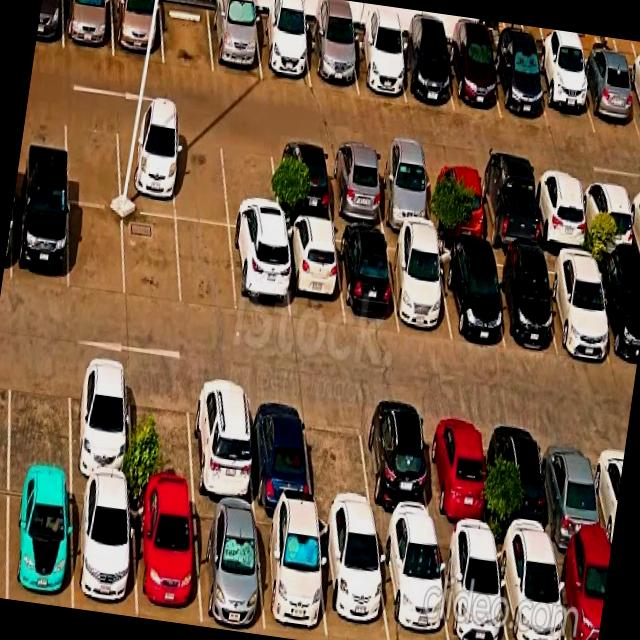car: (192, 500, 265, 633), (360, 404, 435, 531), (255, 509, 327, 640), (131, 491, 201, 623), (422, 410, 490, 539), (6, 475, 71, 608), (318, 517, 388, 640), (73, 482, 137, 615), (540, 425, 607, 552), (247, 386, 313, 512), (190, 377, 254, 506), (376, 528, 448, 640), (70, 358, 131, 488), (491, 418, 553, 545), (436, 533, 507, 640), (543, 254, 612, 361), (495, 540, 566, 640), (437, 245, 505, 348), (386, 236, 452, 341), (487, 251, 556, 351), (335, 229, 399, 330), (283, 222, 344, 326), (117, 119, 175, 218), (12, 190, 68, 290), (230, 229, 290, 320), (553, 546, 611, 640), (476, 167, 540, 252), (272, 141, 333, 224), (576, 61, 640, 140), (595, 259, 640, 371), (425, 161, 486, 243), (325, 147, 385, 228), (533, 56, 595, 134), (373, 153, 433, 233), (532, 173, 590, 253), (580, 178, 637, 259), (491, 47, 548, 126), (446, 41, 501, 118), (397, 38, 454, 111), (255, 14, 311, 87), (208, 6, 262, 81), (350, 31, 406, 102), (306, 25, 358, 93), (111, 0, 163, 63), (63, 0, 113, 56)
free: (304, 396, 374, 523), (130, 368, 194, 498), (9, 352, 71, 477), (221, 134, 280, 234), (176, 220, 236, 312), (123, 212, 181, 307), (172, 127, 228, 225), (65, 110, 120, 208), (69, 203, 125, 297), (160, 0, 213, 73)
